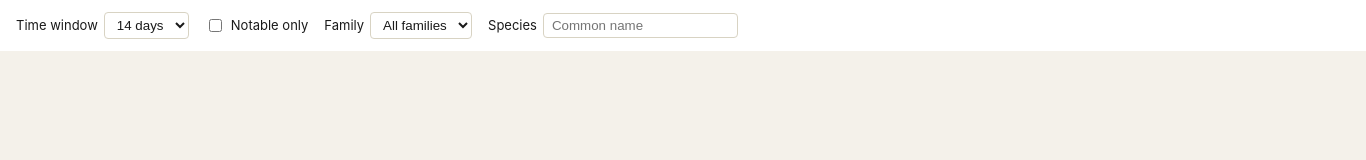
FiltersBar › renders a role=alert outcome when the dictionary failed to load
Type "Vermilion Flycatcher" into the search field labelled "Species" at coordinates (640, 26), box [543,13,738,38]
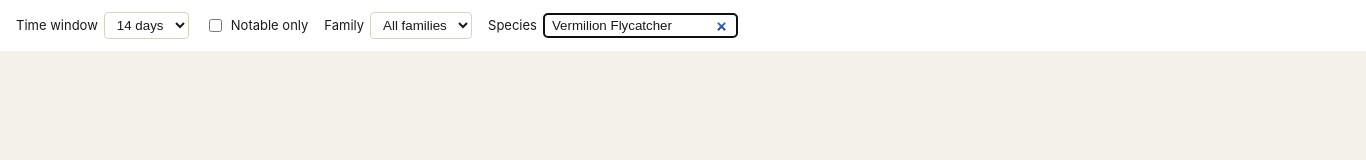
Press Enter
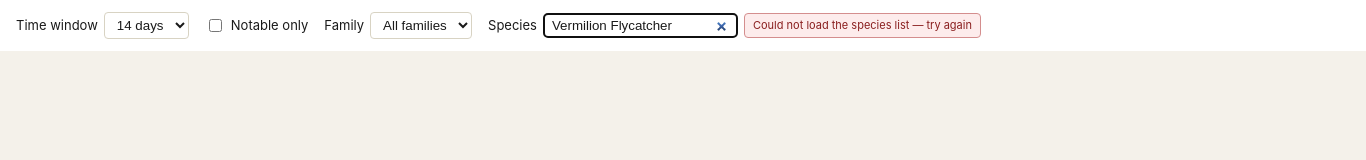
Now the message "Could not load the species list — try again" is shown, box [744,13,981,38]
